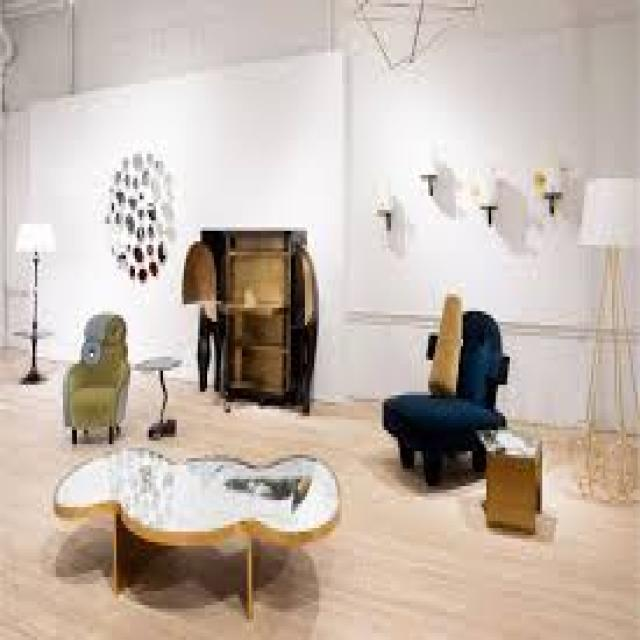Chair: (373, 283, 514, 477), (63, 300, 134, 457)
Lamp: (561, 172, 640, 497), (10, 206, 58, 358), (471, 177, 508, 227), (369, 174, 400, 223), (534, 162, 562, 214), (414, 153, 438, 201)
Table: (49, 437, 340, 640), (136, 354, 190, 440), (18, 318, 58, 378)
